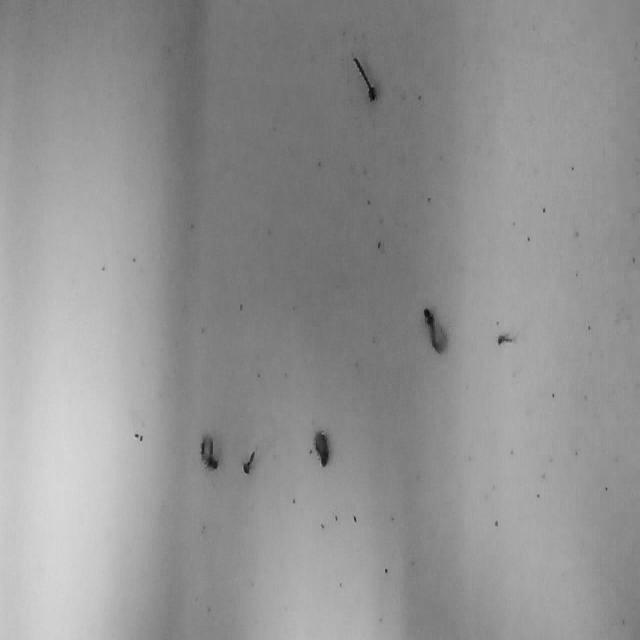larvas: (422, 308, 448, 353), (352, 56, 378, 101), (314, 431, 330, 466), (201, 438, 217, 468), (242, 451, 254, 473), (498, 335, 518, 344)
